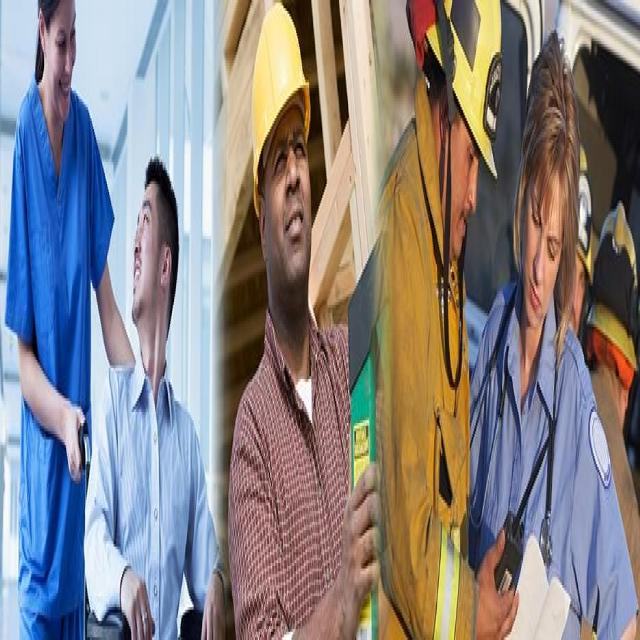Reflective-Jacket: (383, 216, 505, 640)
Safety-Helmet: (402, 1, 507, 181), (248, 1, 312, 179)
